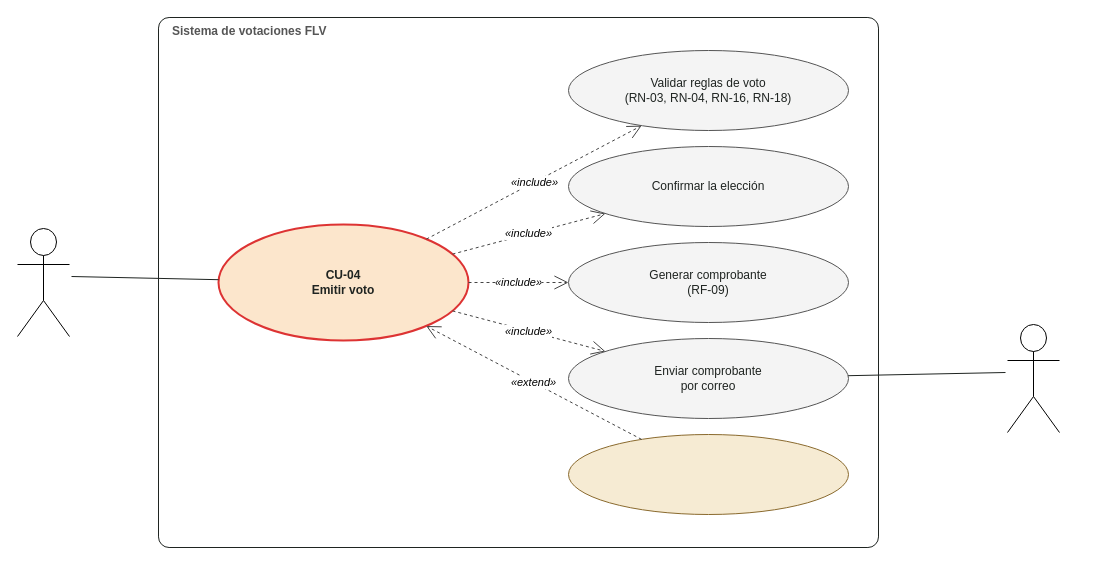
Image size: 1103x565. Some labels were removed from this diagram. Each missing label, with the centre of its shape:
"CU-02 Iniciar sesión" belongs at pixel 708 474.
"Servicio de correo" belongs at pixel 1033 378.
"Votante" belongs at pixel 43 282.
